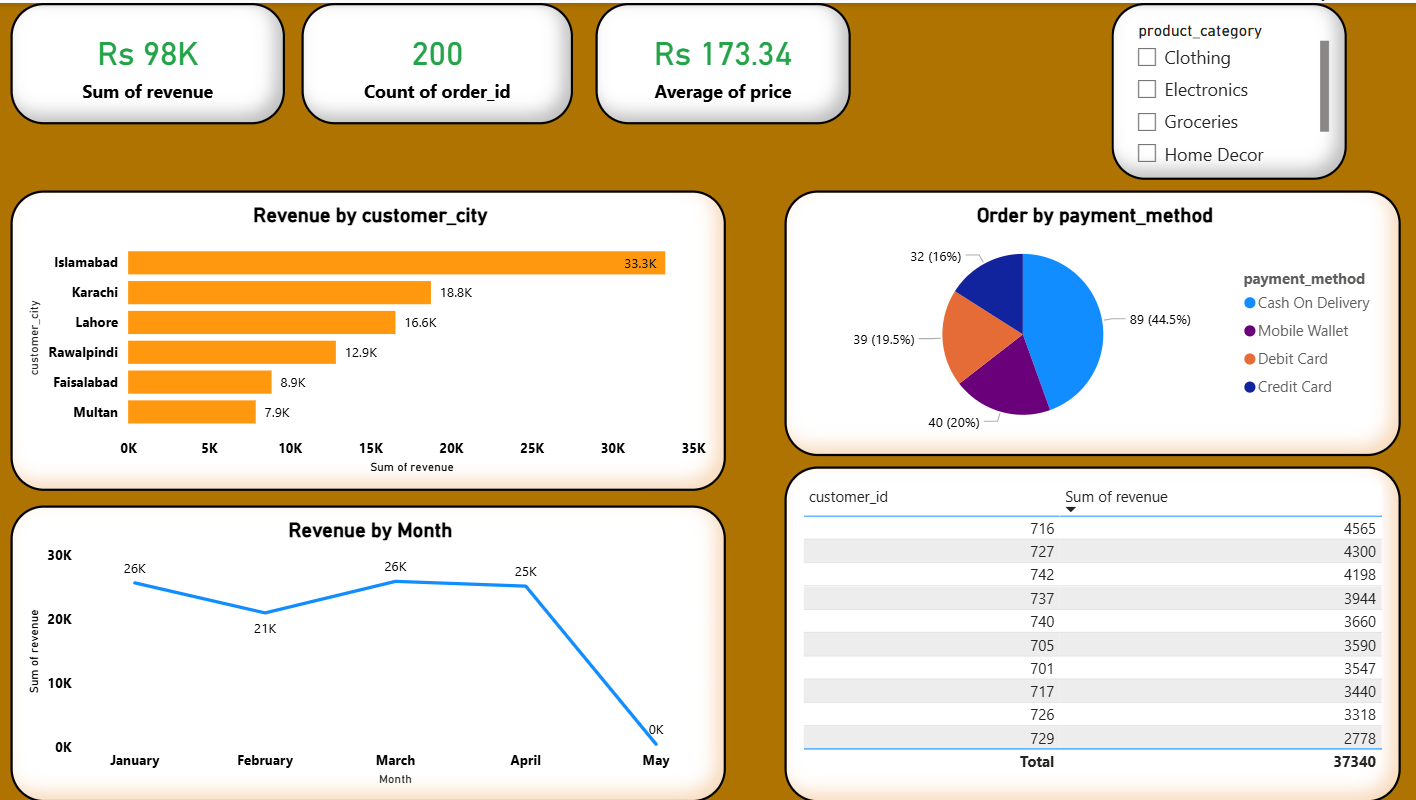

The dashboard page shown, as its layout file describes it:
{"tool":"powerbi","page":{"name":"Page 1","canvas":[1280,720],"ordinal":0},"visuals":[{"type":"card","fields":{"Values":["Sum(sales_data.revenue)"]},"box":[12.2,0,247.4,109.5],"z":0},{"type":"card","fields":{"Values":["CountNonNull(sales_data.order_id)"]},"box":[274.4,0,244.7,109.5],"z":1000},{"type":"card","fields":{"Values":["Avg(sales_data.price)"]},"box":[539.3,0,229.8,109.5],"z":2000},{"type":"barChart","title":"Revenue by customer_city","fields":{"Category":["sales_data.customer_city"],"Y":["Sum(sales_data.revenue)"]},"box":[12.2,169,644.8,270.3],"z":3000},{"type":"pieChart","title":"Order by payment_method","fields":{"Category":["sales_data.payment_method"],"Y":["CountNonNull(sales_data.order_id)"]},"box":[709.7,169,555.6,239.3],"z":4000},{"type":"lineChart","title":"Revenue by Month","fields":{"Y":["Sum(sales_data.revenue)"],"Category":["sales_data.order_date.Variation.Date Hierarchy.Month"]},"box":[12.2,452.8,644.8,267.6],"z":5000},{"type":"tableEx","fields":{"Values":["sales_data.customer_id","Sum(sales_data.revenue)"]},"box":[709.7,417.7,555.6,302.8],"z":6000},{"type":"slicer","fields":{"Values":["sales_data.product_category"]},"box":[1004.3,0,212.2,159.5],"z":7000}]}

Visuals, with their boxes in screenshot pixels (x1, y1, x2, y2), scaled from the page's 1280x720 canvas onto the 1416x800 screenshot:
card - Sum(sales_data.revenue): <bbox>13, 0, 287, 122</bbox>
card - CountNonNull(sales_data.order_id): <bbox>304, 0, 574, 122</bbox>
card - Avg(sales_data.price): <bbox>597, 0, 851, 122</bbox>
"Revenue by customer_city" barChart: <bbox>13, 188, 727, 488</bbox>
"Order by payment_method" pieChart: <bbox>785, 188, 1400, 454</bbox>
"Revenue by Month" lineChart: <bbox>13, 503, 727, 799</bbox>
tableEx - sales_data.customer_id x Sum(sales_data.revenue): <bbox>785, 464, 1400, 799</bbox>
slicer - sales_data.product_category: <bbox>1111, 0, 1346, 177</bbox>
